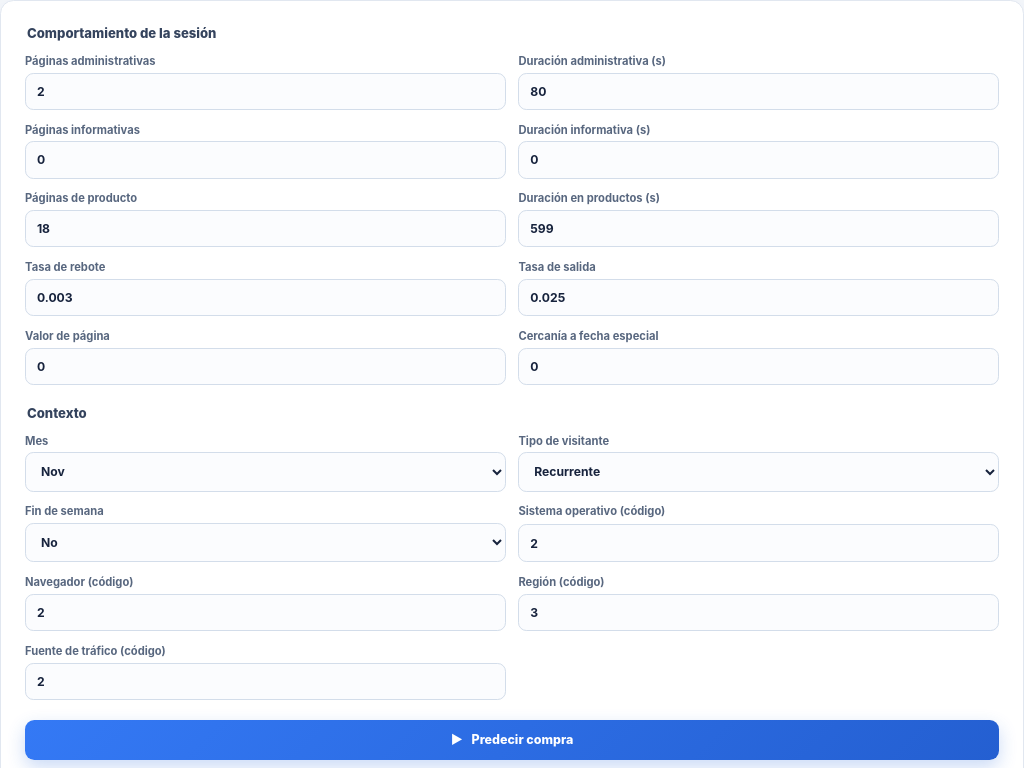
Test: submits the 17 typed features and renders the result
Click the button "▶ Predecir compra" at point(512, 740), box 25,720 -> 999,760
(page scrolled)
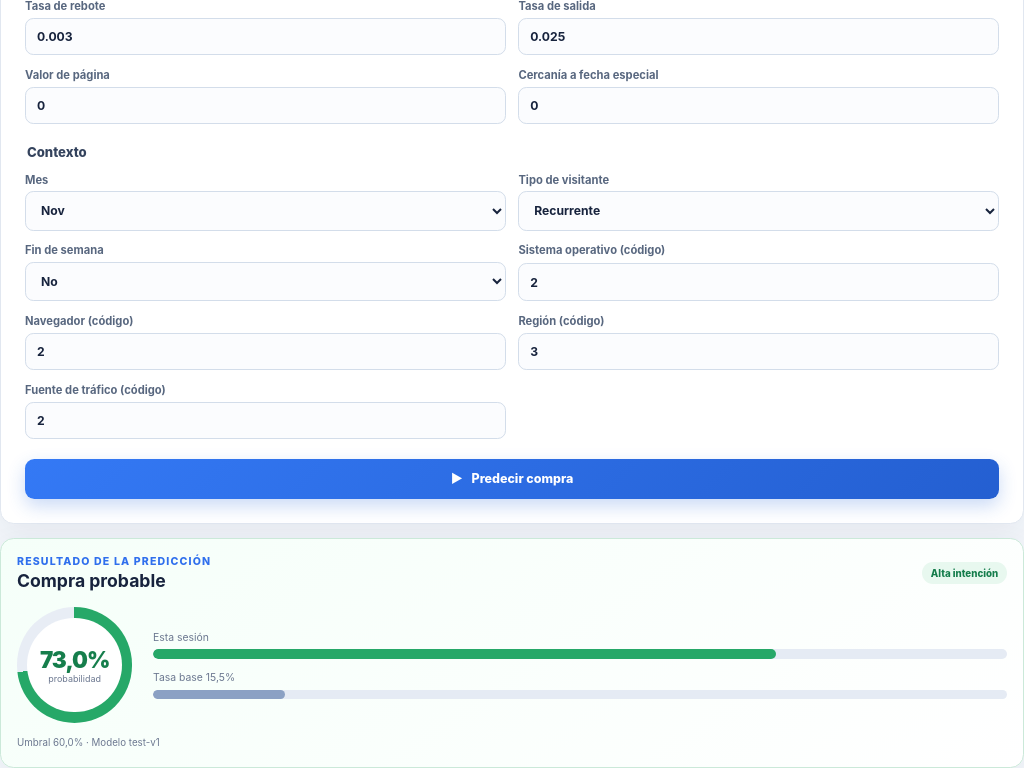
Expected: the heading "Compra probable" is shown, 17,570 -> 166,592
